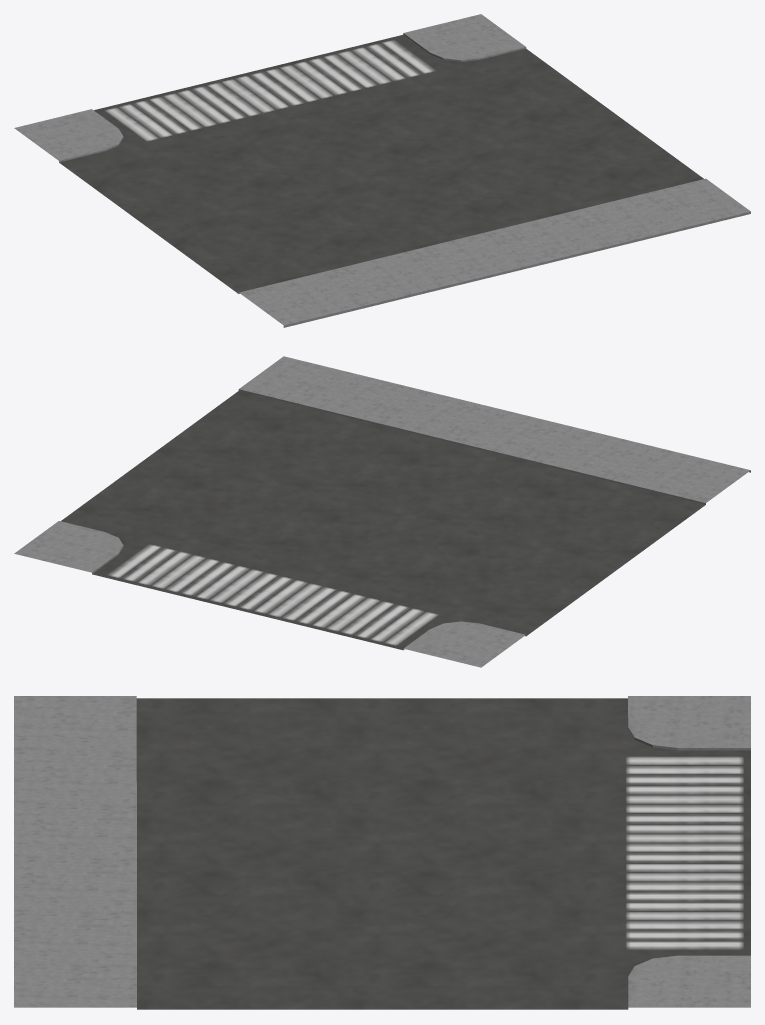
File: Road_3Way.glb
3 views of the same model, one above another, from view 1: azimuth 30°, elevation 25°; view 2: azimuth 150°, elevation 25°; view 3: azimuth 270°, elevation 25° (orthographic). The views are drawn at different scales.
Visible parts, largest first — view 1: Object_14; view 2: Object_14; view 3: Object_14.
Part boxes in pixels (x1,y1,x2,y2): Object_14: (14, 14, 750, 327); Object_14: (14, 356, 750, 667); Object_14: (14, 696, 750, 1009).
Bounding box in the file's own units: 6 × 0.03 × 6.
1 material, 1 textured.
